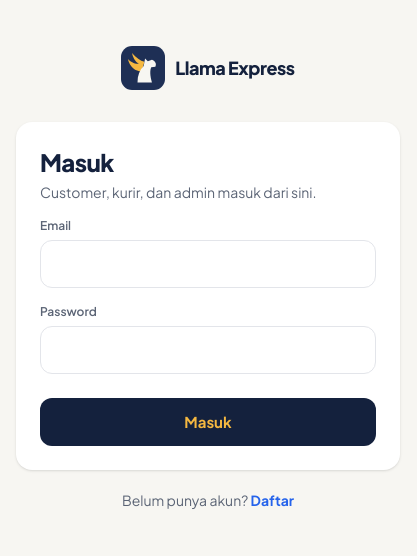
LoginPage › ApiError lain (mis. akun dibekukan) → pesan dari backend
Type "budi@mail.com" into the field labelled "Email".
click(208, 264); type("budi@mail.com")  # box [40,240,376,288]
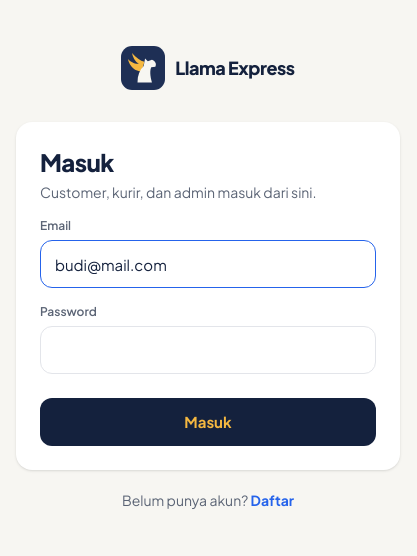
Type "rahasia123" into the password field labelled "Password".
click(208, 350); type("rahasia123")  # box [40,326,376,374]
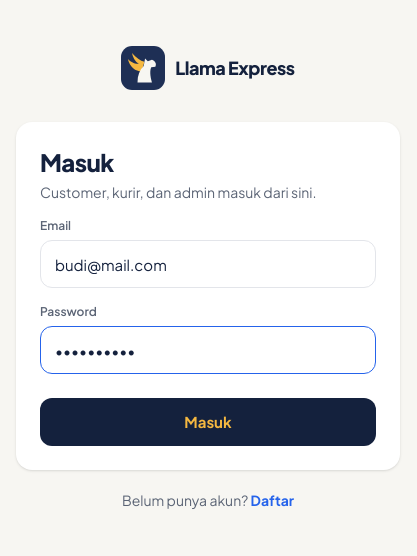
Click the button "Masuk".
click(208, 422)  # box [40,398,376,446]
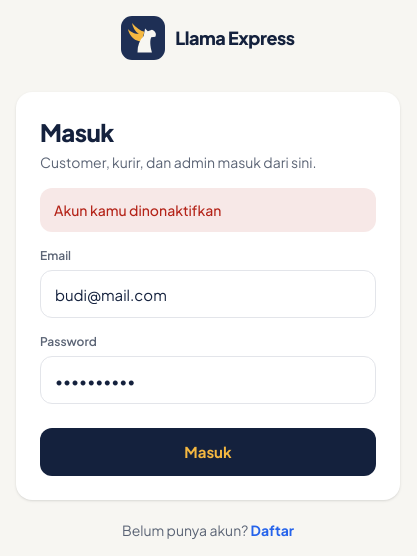
Result: the text "Akun kamu dinonaktifkan" is shown at [40,188,376,232]
